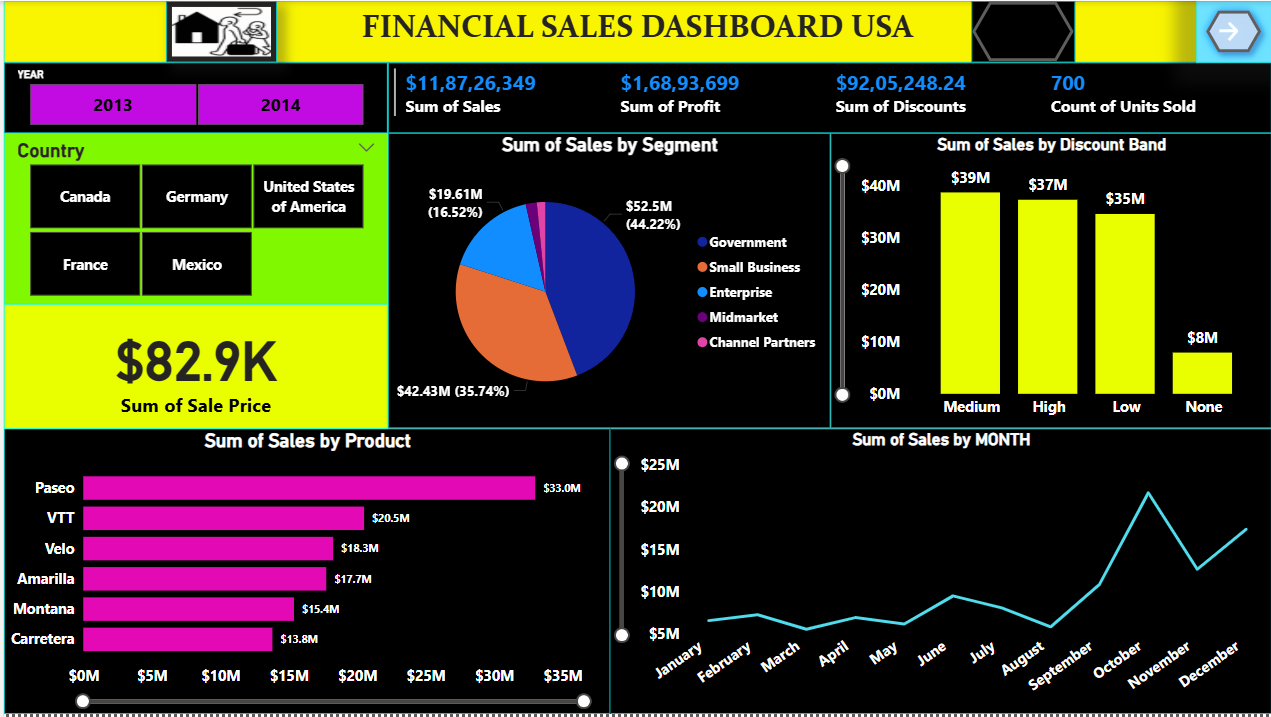

The dashboard page shown, as its layout file describes it:
{"tool":"powerbi","page":{"name":"ASMNT 9 SALES DASHBOARD","canvas":[1280,720],"ordinal":10},"visuals":[{"type":"textbox","box":[0,0,1279.5,62.1],"z":0},{"type":"multiRowCard","fields":{"Values":["Sum(financials. Sales)","Sum(financials.Profit)","Sum(financials.Discounts)","CountNonNull(financials.Units Sold)"]},"box":[387.6,62.1,891.9,71.2],"z":1000},{"type":"slicer","fields":{"Values":["FI NEW DATE.YEAR"]},"box":[0,62.1,387.6,71.2],"z":2000},{"type":"pieChart","fields":{"Y":["Sum(financials. Sales)"],"Category":["financials.Segment"]},"box":[387.6,133.3,446.7,298.3],"z":3000},{"type":"clusteredColumnChart","fields":{"Y":["Sum(financials. Sales)"],"Category":["financials.Discount Band"]},"box":[834.3,133.3,445.2,298.3],"z":4000},{"type":"lineChart","fields":{"Y":["Sum(financials. Sales)"],"Category":["FI NEW DATE.MONTH"]},"box":[611.7,431.5,667.8,287.7],"z":5000},{"type":"clusteredBarChart","fields":{"Y":["Sum(financials. Sales)"],"Category":["financials.Product"]},"box":[0,431.5,611.7,287.7],"z":6000},{"type":"card","fields":{"Values":["Sum(financials.Sale Price)"]},"box":[0,305.9,387.6,125.7],"z":7000},{"type":"slicer","fields":{"Values":["financials.Country"]},"box":[0,133.3,387.6,172.6],"z":8000},{"type":"actionButton","box":[1203.8,0,75.7,62.1],"z":9000},{"type":"image","box":[163.5,0,112.1,62.1],"z":10000},{"type":"actionButton","box":[976.7,0,104.5,62.1],"z":11000}]}

Visuals, with their boxes in screenshot pixels (x1, y1, x2, y2), scaled from the page's 1280x720 canvas onto the 1271x717 screenshot:
textbox: x1=0, y1=0, x2=1270, y2=62
multiRowCard - Sum(financials. Sales) x Sum(financials.Profit): x1=385, y1=62, x2=1270, y2=133
slicer - FI NEW DATE.YEAR: x1=0, y1=62, x2=385, y2=133
pieChart - Sum(financials. Sales) x financials.Segment: x1=385, y1=133, x2=828, y2=430
clusteredColumnChart - Sum(financials. Sales) x financials.Discount Band: x1=828, y1=133, x2=1270, y2=430
lineChart - Sum(financials. Sales) x FI NEW DATE.MONTH: x1=607, y1=430, x2=1270, y2=716
clusteredBarChart - Sum(financials. Sales) x financials.Product: x1=0, y1=430, x2=607, y2=716
card - Sum(financials.Sale Price): x1=0, y1=305, x2=385, y2=430
slicer - financials.Country: x1=0, y1=133, x2=385, y2=305
actionButton: x1=1195, y1=0, x2=1270, y2=62
image: x1=162, y1=0, x2=274, y2=62
actionButton: x1=970, y1=0, x2=1074, y2=62
